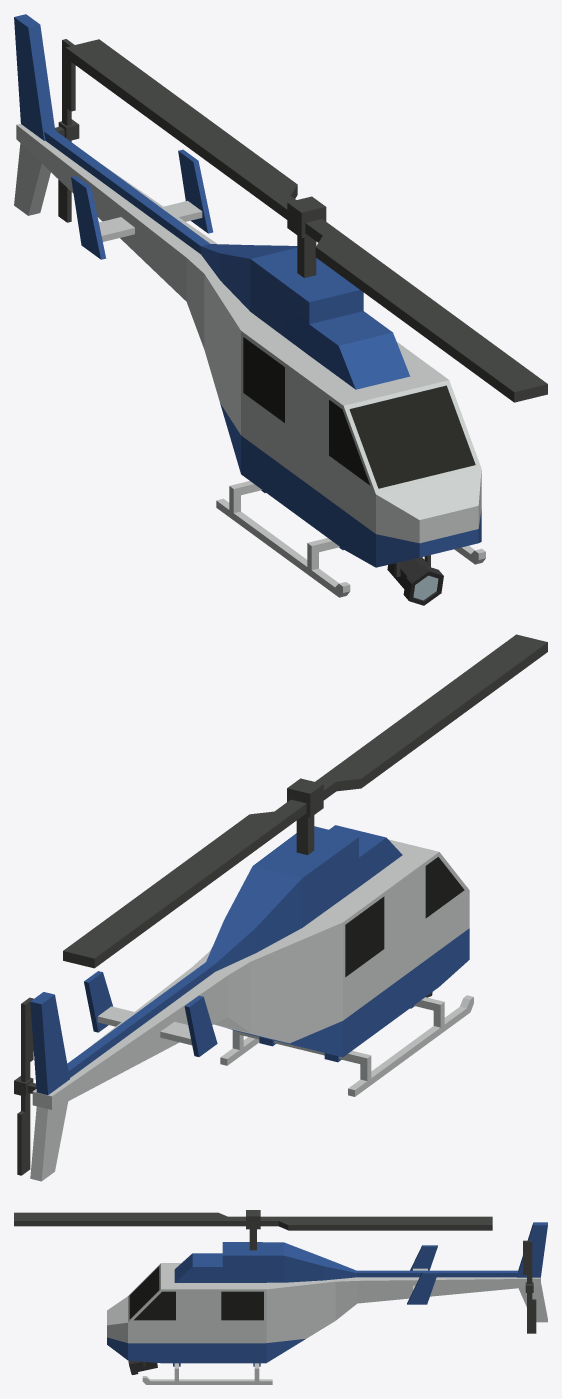
Rendered from Veh_Police_Helicopter.glb.
3 renders of one model, top to bottom at view 1: azimuth 30°, elevation 25°; view 2: azimuth 150°, elevation 25°; view 3: azimuth 270°, elevation 25°, orthographic. The views are drawn at different scales.
Parts seen in each view (by area): view 1: Veh_Police_Helicopter, Rotor_Main, Search_Light, Rotor_Tail; view 2: Veh_Police_Helicopter, Rotor_Main, Rotor_Tail; view 3: Veh_Police_Helicopter, Rotor_Main, Rotor_Tail, Search_Light.
Part boxes in pixels (x1,y1,x2,y2): Veh_Police_Helicopter: (14,14,485,597); Rotor_Main: (65,39,547,402); Search_Light: (387,555,443,605); Rotor_Tail: (55,39,79,222); Veh_Police_Helicopter: (30,825,473,1181); Rotor_Main: (63,634,547,968); Rotor_Tail: (14,997,36,1175); Veh_Police_Helicopter: (107,1222,547,1384); Rotor_Main: (14,1210,492,1250); Rotor_Tail: (523,1240,536,1333); Search_Light: (128,1360,157,1374).
Size of the model in its own units: 1.02 by 2.16 by 6.44.
1 material, 1 textured.
